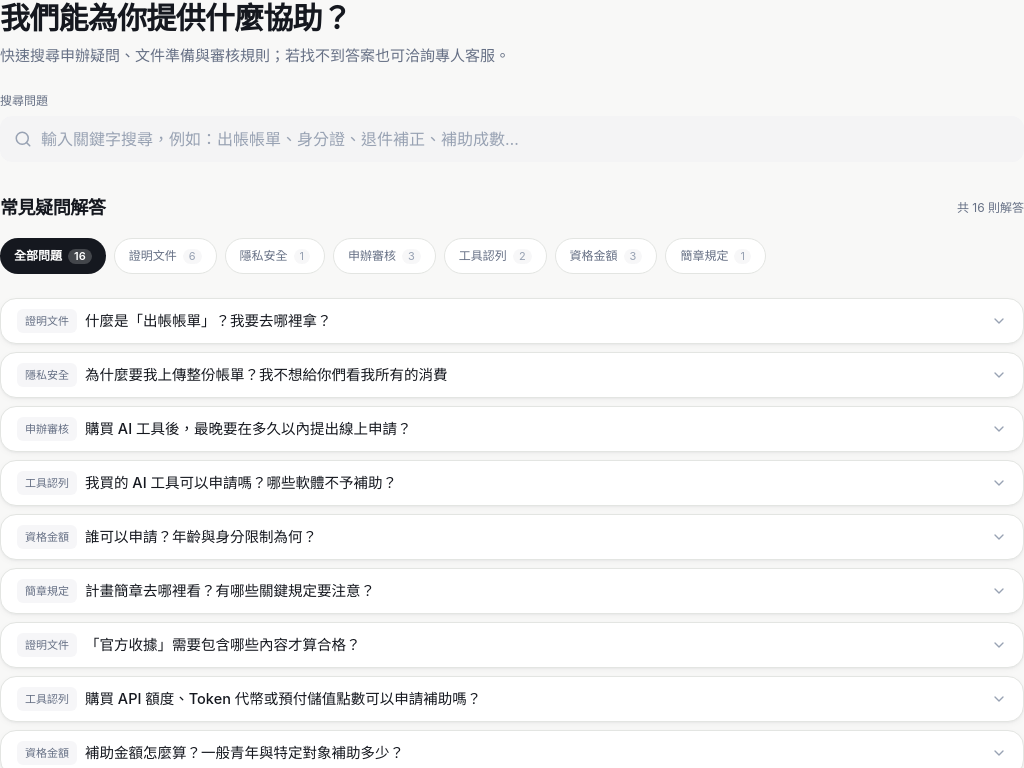
it: HelpPage › 載入 FAQ 並可在前端即時縮小範圍
This screenshot has width=1024, height=768.
expect the text "什麼是「出帳帳單」？我要去哪裡拿？" is shown: met, box top-left (85, 311), bottom-right (332, 331)
Type "整份帳單" into the field labelled "搜尋問題" at [512, 139], box top-left (0, 116), bottom-right (1023, 162)
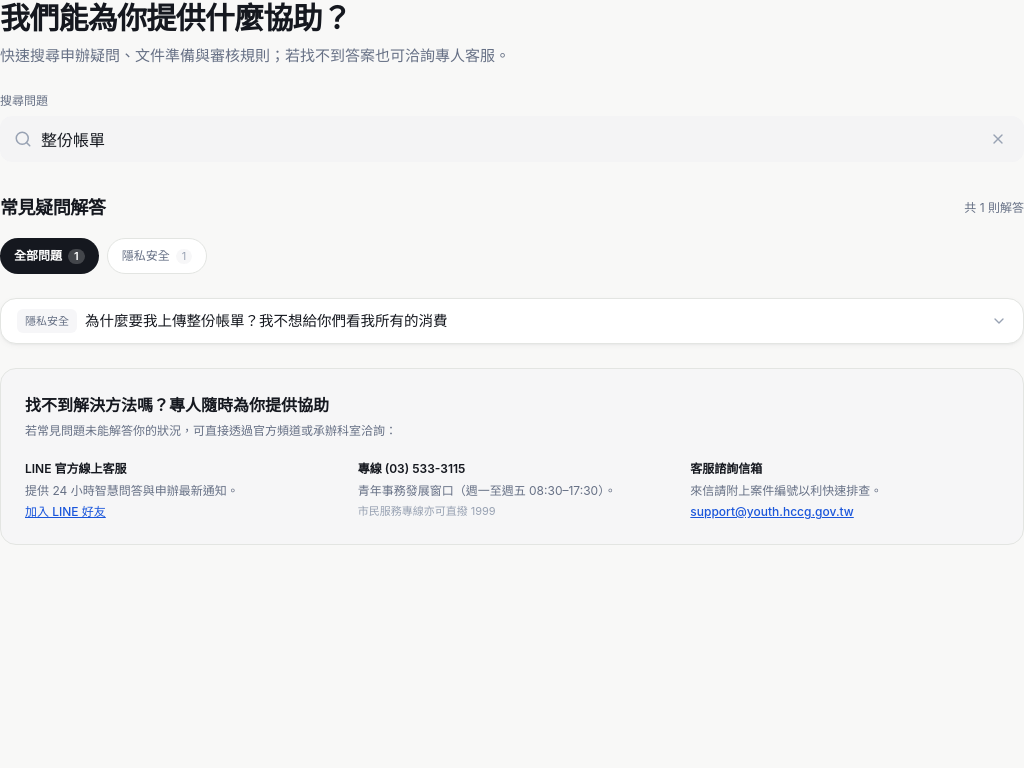
expect the text "為什麼要我上傳整份帳單？我不想給你們看我所有的消費" is shown: met, box top-left (85, 311), bottom-right (448, 331)
expect the heading "什麼是「出帳帳單」？我要去哪裡拿？" is gone: met
